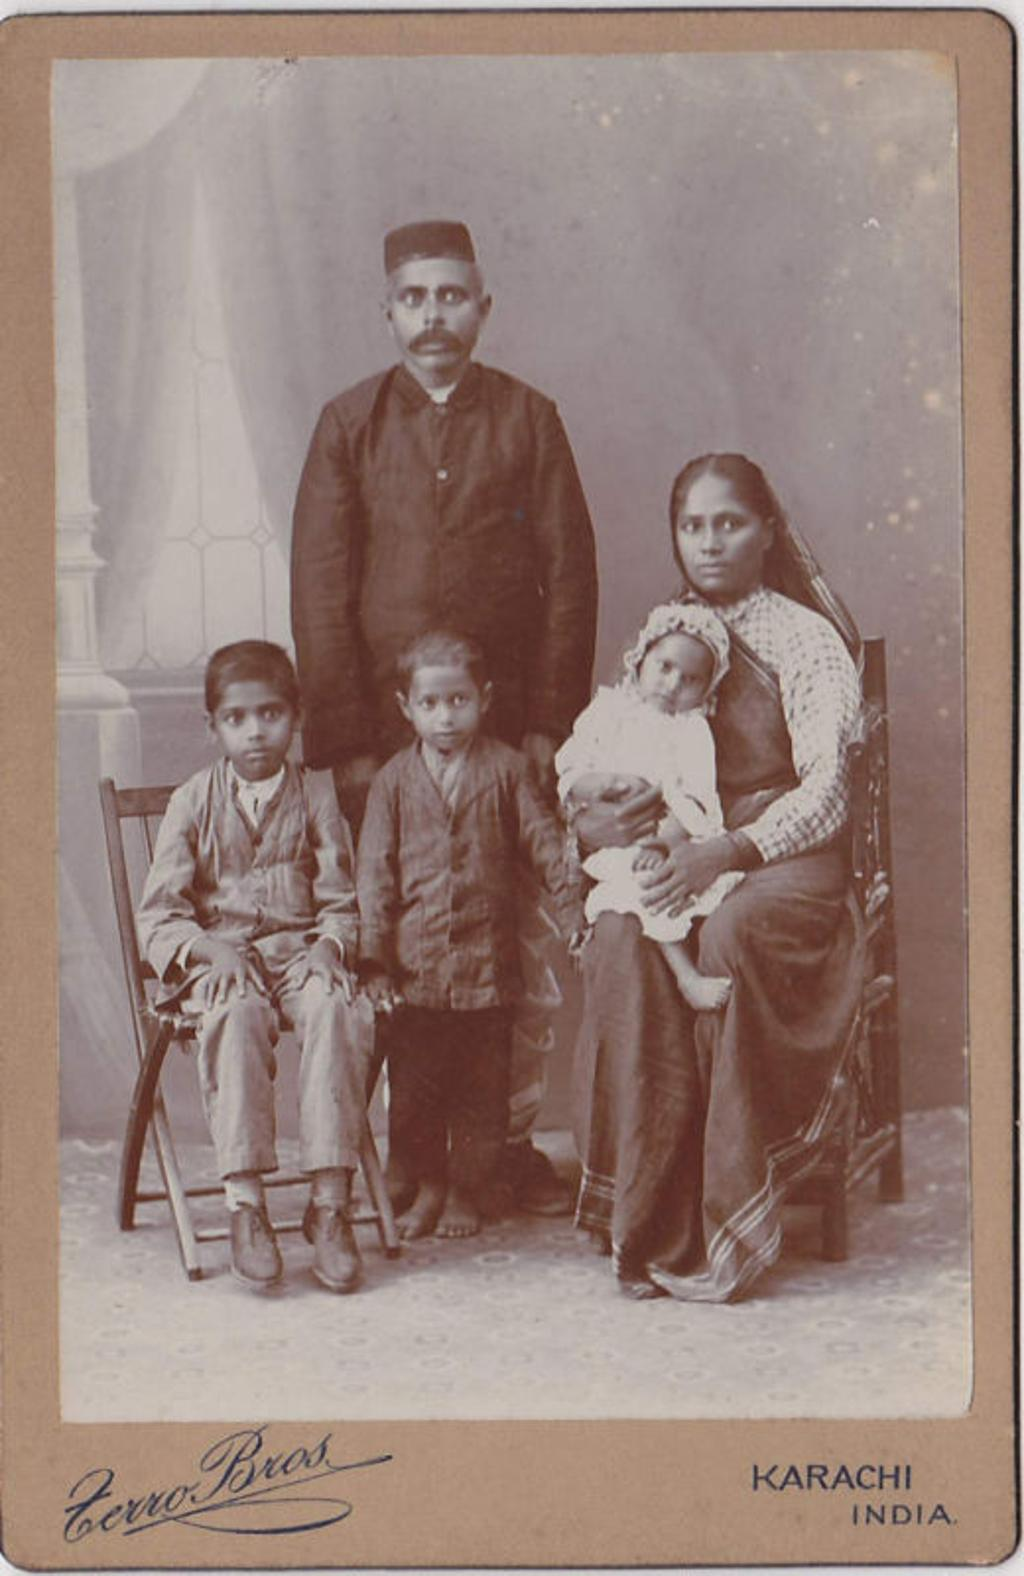face: (391, 272, 480, 365), (678, 490, 763, 588), (216, 687, 293, 775), (410, 675, 482, 749), (640, 644, 712, 711)
